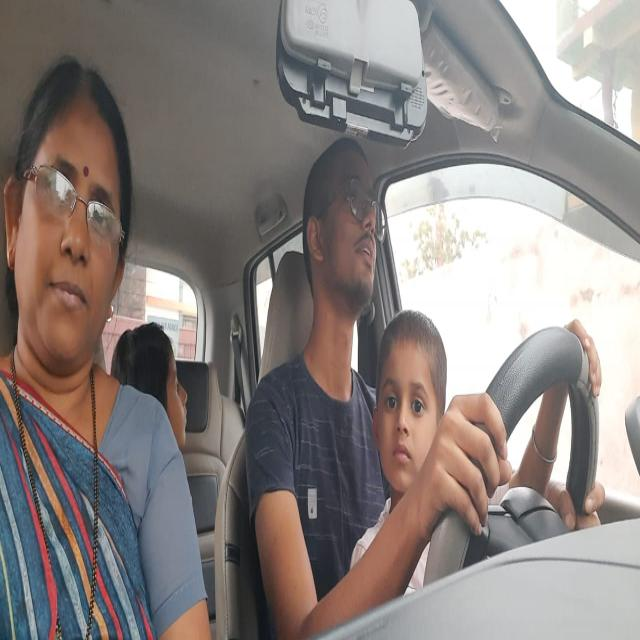child: (373, 311, 446, 499)
person: (0, 60, 142, 387), (302, 129, 384, 307), (116, 324, 196, 454)
